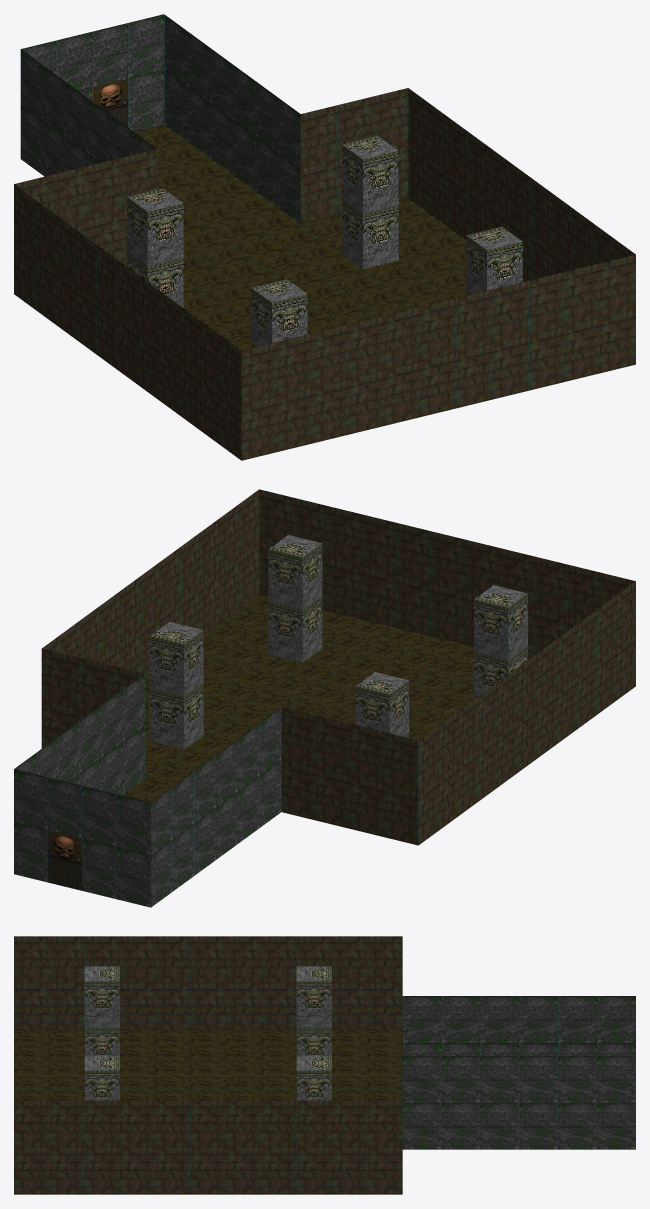
Rendered from level_doom_style.fbx.
The picture shows the model from 3 angles, top to bottom: view 1: azimuth 30°, elevation 25°; view 2: azimuth 150°, elevation 25°; view 3: azimuth 270°, elevation 25°; orthographic projection. The views are drawn at different scales.
Visible parts, largest first — view 1: Plane; view 2: Plane; view 3: Plane.
Part boxes in pixels (x1,y1,x2,y2): Plane: [14, 14, 635, 460]; Plane: [14, 489, 635, 907]; Plane: [14, 936, 635, 1194].
Size of the model in its own units: 30 by 8 by 48.
